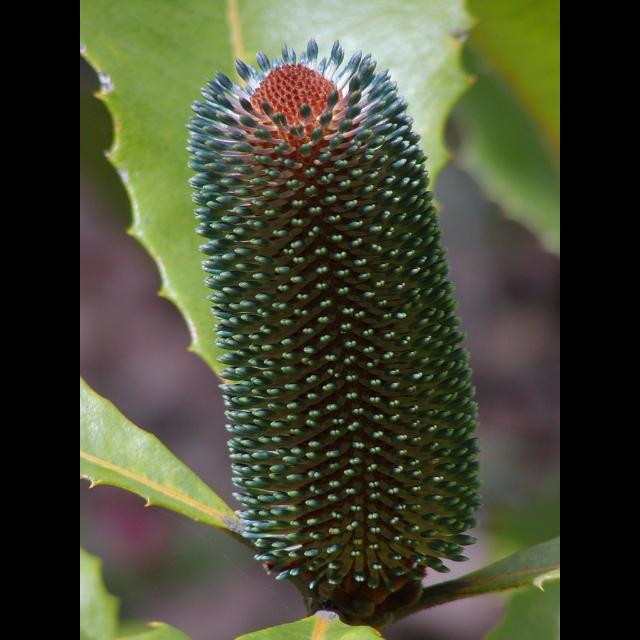Flower: (185, 37, 485, 609)
